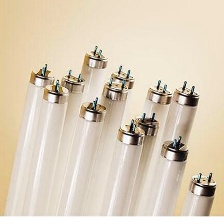light_bulb: (31, 44, 110, 223), (64, 65, 135, 223), (64, 77, 131, 224), (108, 79, 173, 224), (140, 77, 204, 224), (1, 60, 58, 224), (36, 68, 89, 224), (22, 77, 73, 224), (55, 95, 109, 224), (101, 110, 161, 224), (110, 106, 162, 224), (140, 133, 193, 221), (174, 168, 217, 224)
